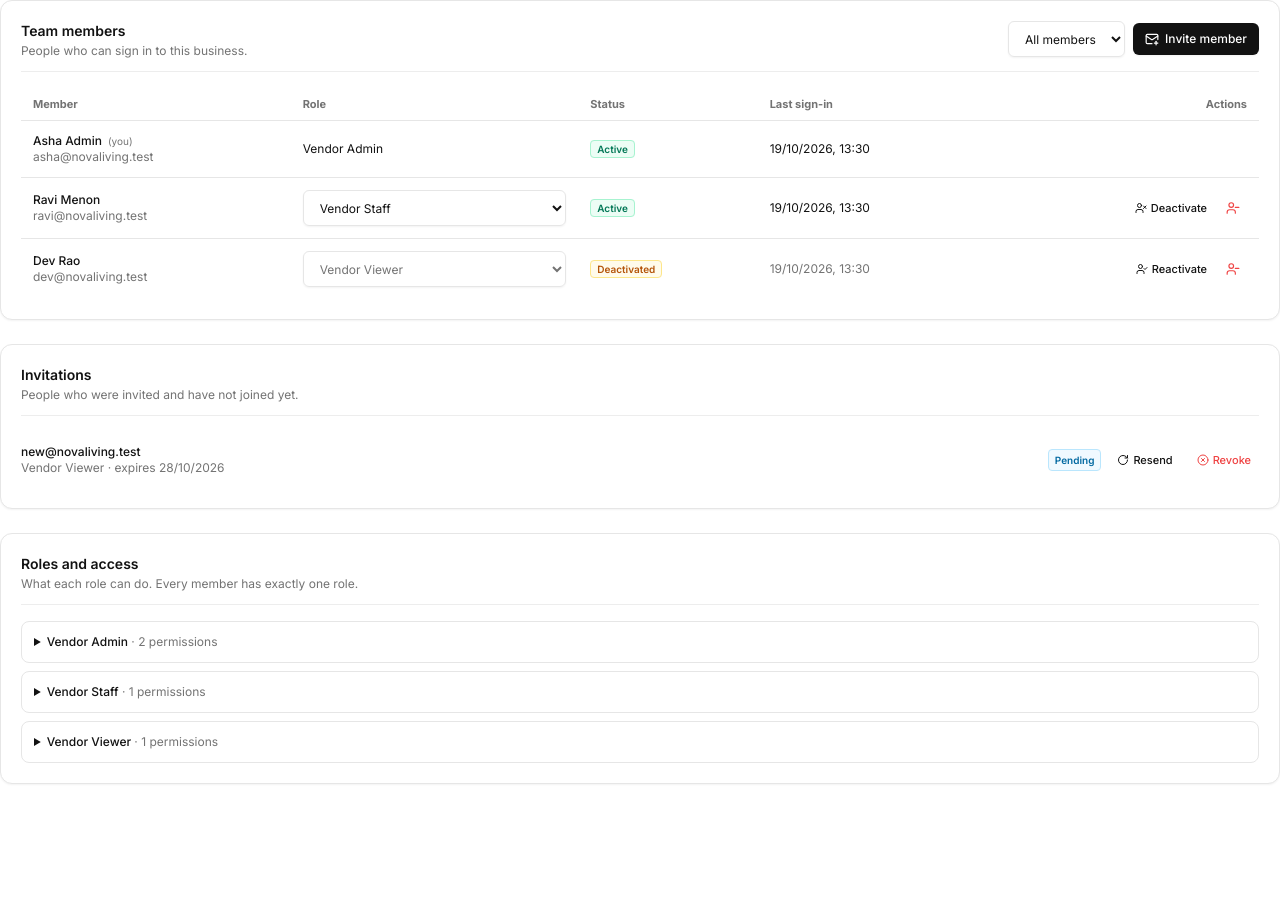
it: TeamTab › shows the server's reason when a change is refused
The width and height of the screenshot is (1280, 900).
Click the button with aria-label "Deactivate Ravi Menon". click: click(1171, 208)
box: [1127,194,1215,222]
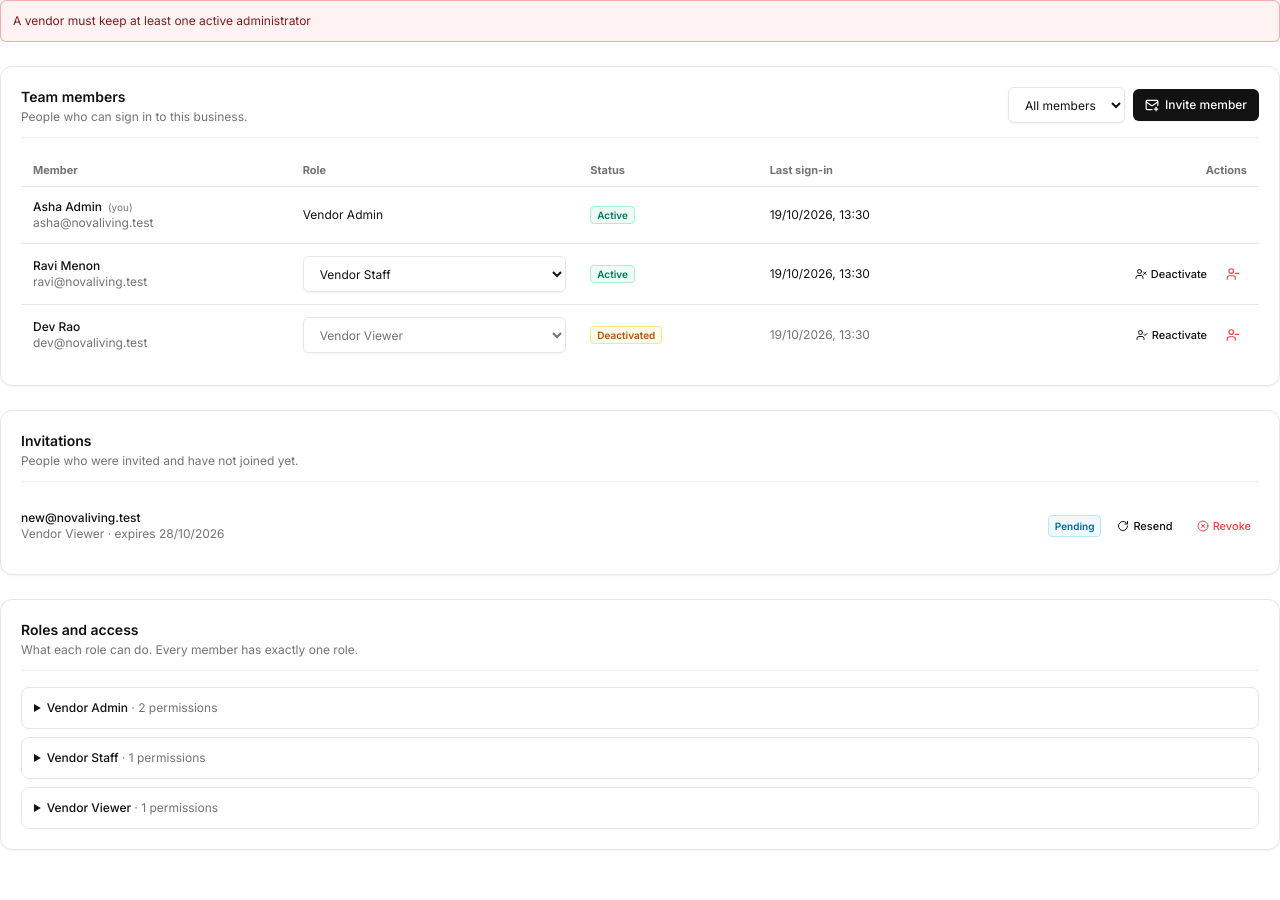
Check: the text "A vendor must keep at least one active administrator" is shown, box [0,0,1279,42]
